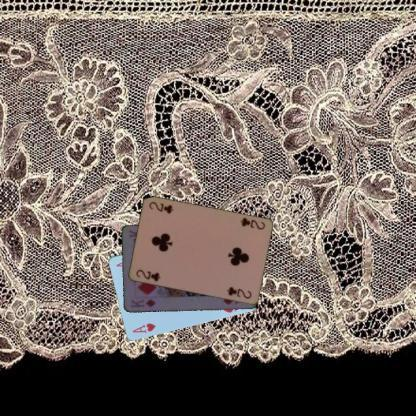2c: (134, 266, 162, 283), (238, 215, 266, 231)
Ah: (130, 320, 156, 335)
Kd: (128, 296, 157, 310)
